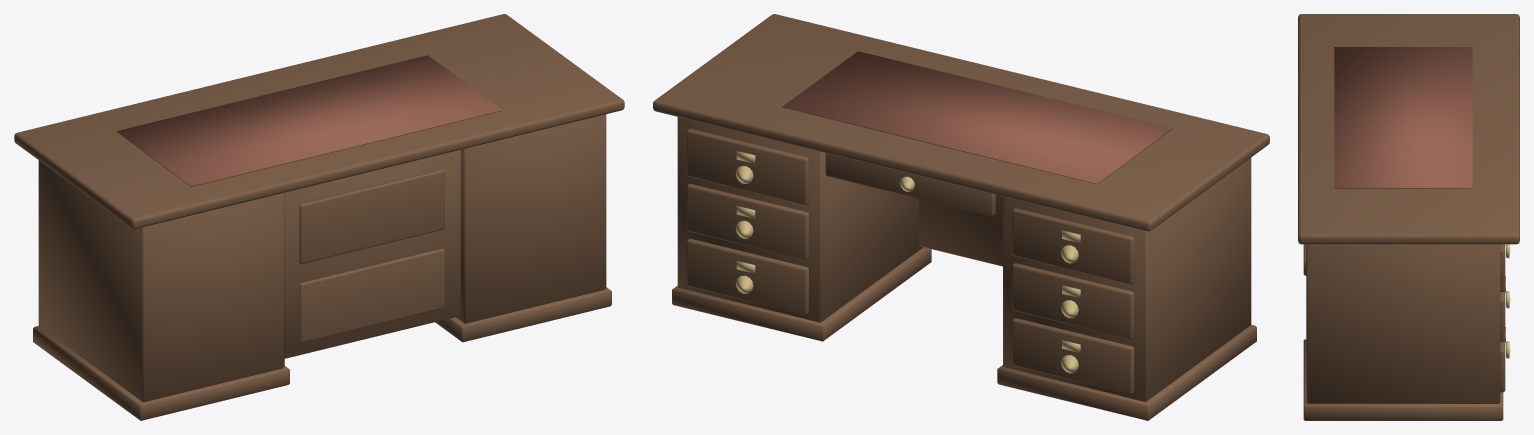
Rendered from station_desk.glb.
3 views of the same model, side by side, from view 1: azimuth 30°, elevation 25°; view 2: azimuth 150°, elevation 25°; view 3: azimuth 270°, elevation 25° (orthographic). The views are drawn at different scales.
Visible parts, largest first — view 1: station_desk; view 2: station_desk; view 3: station_desk.
Boxes of the visible parts, x1=… form: station_desk: x1=14, y1=14, x2=624, y2=420; station_desk: x1=653, y1=14, x2=1269, y2=420; station_desk: x1=1298, y1=14, x2=1519, y2=420.
Size of the model in its own units: 1.9 by 0.7635 by 0.8.
